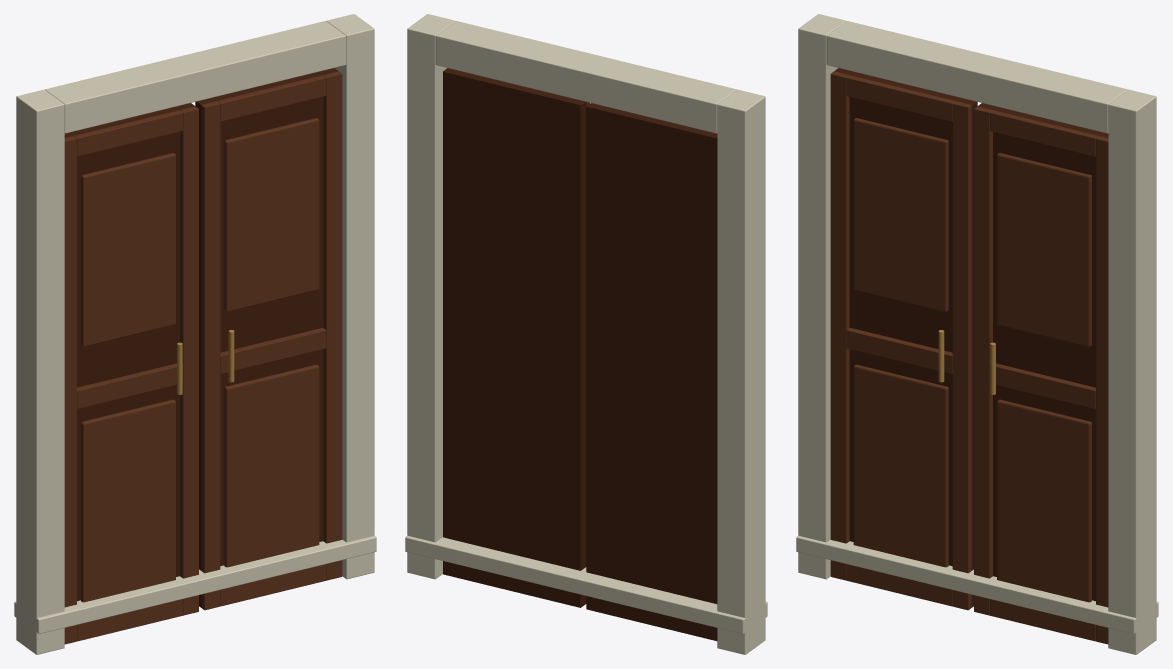
Rendered from source-edit.glb.
The picture shows the model from 3 angles, left to right: view 1: azimuth 30°, elevation 25°; view 2: azimuth 150°, elevation 25°; view 3: azimuth 330°, elevation 25°; orthographic projection.
Visible parts, largest first — view 1: DOOR_Jamb, DOOR_Jamb.001, Right_RaisedPanel, Left_RaisedPanel, Right_RaisedPanel.001, Left_RaisedPanel.001, DOOR_Header, Right_Core, Left_Core, Right_Stile.001, Right_Stile, Left_Stile.001 (+8 smaller); view 2: Right_Core, Left_Core, DOOR_Jamb, DOOR_Jamb.001, DOOR_Header, DOOR_Sill; view 3: DOOR_Jamb.001, DOOR_Jamb, Left_RaisedPanel, Right_RaisedPanel, Left_RaisedPanel.001, Right_RaisedPanel.001, DOOR_Header, Left_Core, Right_Core, Left_Stile.001, Left_Stile, Right_Stile.001 (+8 smaller).
Part boxes in pixels (x1=…): DOOR_Jamb: x1=16, y1=89, x2=64, y2=654; DOOR_Jamb.001: x1=326, y1=14, x2=374, y2=579; Right_RaisedPanel: x1=224, y1=364, x2=319, y2=567; Left_RaisedPanel: x1=81, y1=399, x2=175, y2=602; Right_RaisedPanel.001: x1=224, y1=118, x2=319, y2=311; Left_RaisedPanel.001: x1=81, y1=153, x2=175, y2=346; DOOR_Header: x1=45, y1=21, x2=346, y2=133; Right_Core: x1=195, y1=68, x2=338, y2=607; Left_Core: x1=64, y1=103, x2=194, y2=601; Right_Stile.001: x1=201, y1=101, x2=220, y2=610; Right_Stile: x1=323, y1=71, x2=342, y2=580; Left_Stile.001: x1=180, y1=106, x2=198, y2=615; Right_Core: x1=443, y1=68, x2=586, y2=607; Left_Core: x1=586, y1=103, x2=717, y2=640; DOOR_Jamb: x1=717, y1=89, x2=765, y2=654; DOOR_Jamb.001: x1=407, y1=14, x2=455, y2=579; DOOR_Header: x1=435, y1=21, x2=736, y2=133; DOOR_Sill: x1=405, y1=535, x2=767, y2=633; DOOR_Jamb.001: x1=1108, y1=89, x2=1156, y2=654; DOOR_Jamb: x1=798, y1=14, x2=846, y2=579; Left_RaisedPanel: x1=853, y1=364, x2=948, y2=567; Right_RaisedPanel: x1=997, y1=399, x2=1091, y2=602; Left_RaisedPanel.001: x1=853, y1=118, x2=948, y2=311; Right_RaisedPanel.001: x1=997, y1=153, x2=1091, y2=346; DOOR_Header: x1=826, y1=21, x2=1127, y2=133; Left_Core: x1=834, y1=68, x2=977, y2=607; Right_Core: x1=978, y1=103, x2=1108, y2=601; Left_Stile.001: x1=952, y1=101, x2=971, y2=610; Left_Stile: x1=830, y1=71, x2=849, y2=580; Right_Stile.001: x1=974, y1=106, x2=992, y2=615.
Size of the model in its own units: 1.9 by 2.92 by 0.24.
